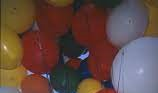Balloon: (106, 1, 149, 48), (20, 31, 59, 72), (70, 8, 108, 46), (1, 1, 36, 32), (50, 65, 78, 93)
